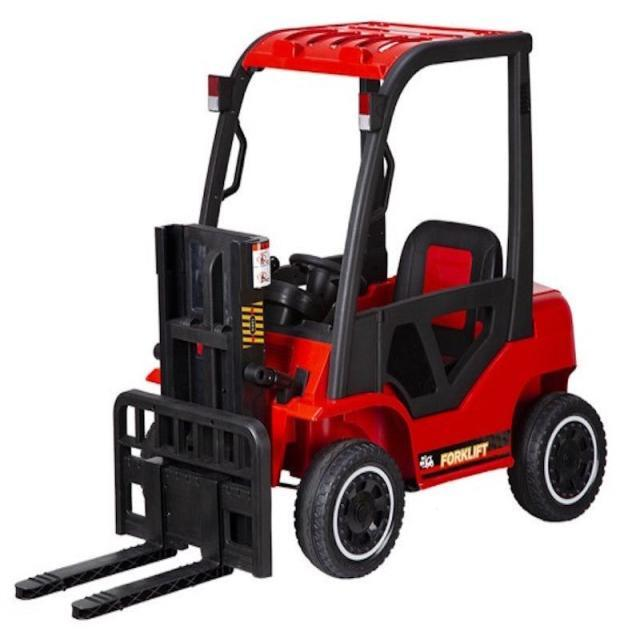forklift: (101, 22, 606, 590)
